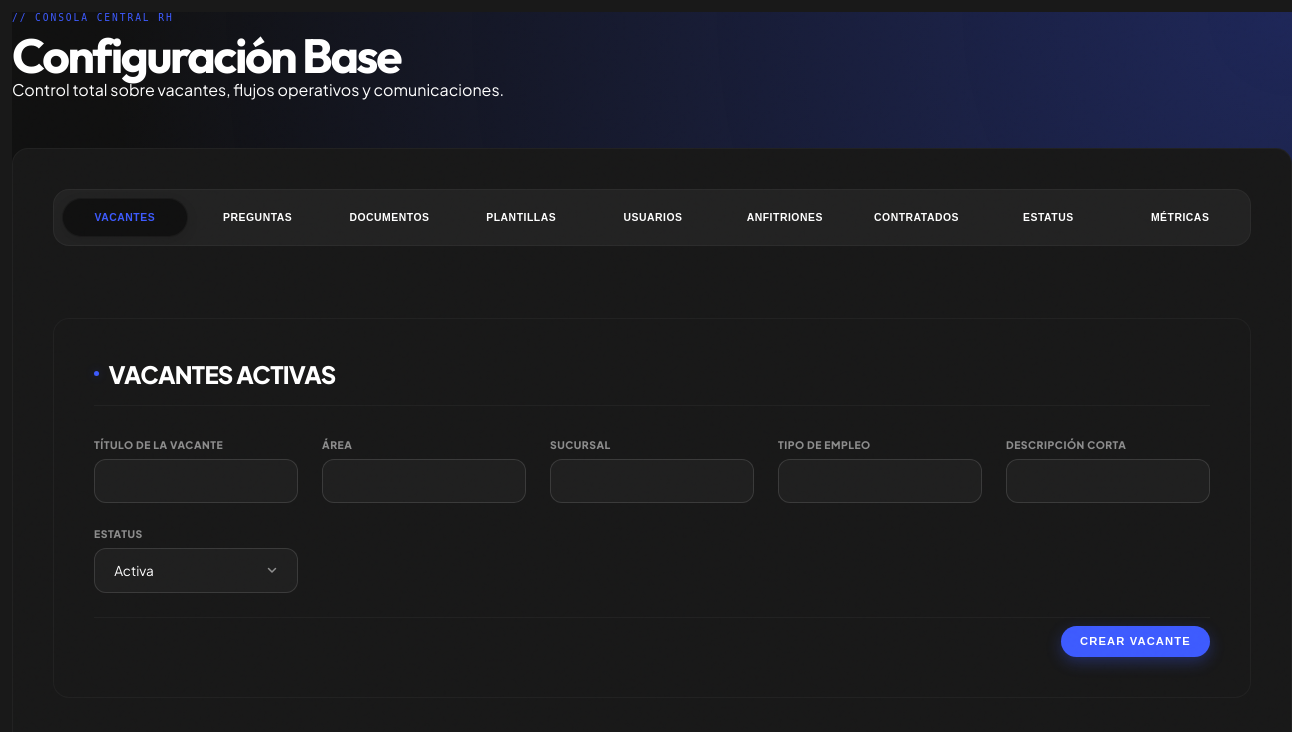
Test: CrmAdmin › cambia a pestaña Métricas y muestra eventos recientes
Click the button "Métricas".
click(1180, 217)  # box x1=1118 y1=198 x2=1242 y2=237
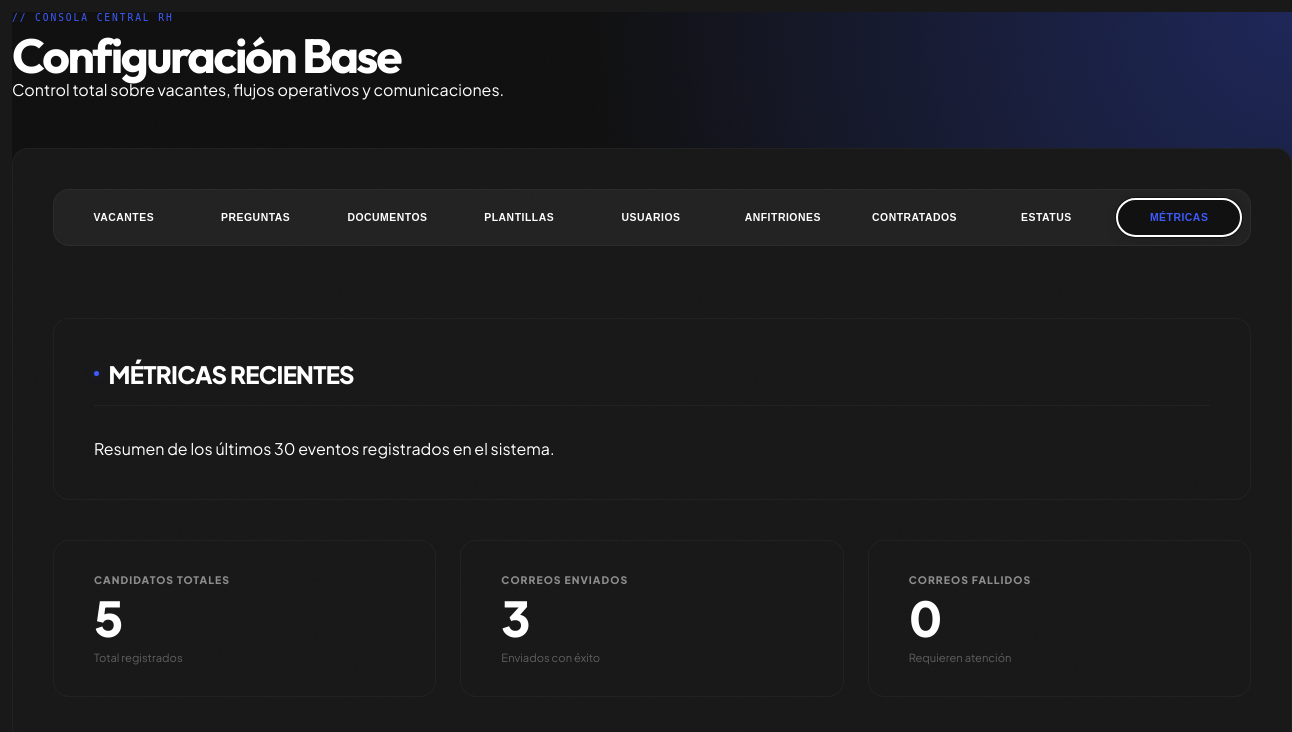
Now the heading "Métricas recientes" is shown, box x1=94 y1=359 x2=1210 y2=406
